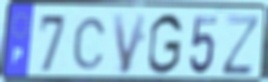5: (188, 15, 220, 75)
7: (38, 12, 68, 74)
C: (71, 16, 108, 72)
G: (146, 12, 184, 77)
V: (111, 12, 149, 77)
Z: (220, 13, 262, 78)
